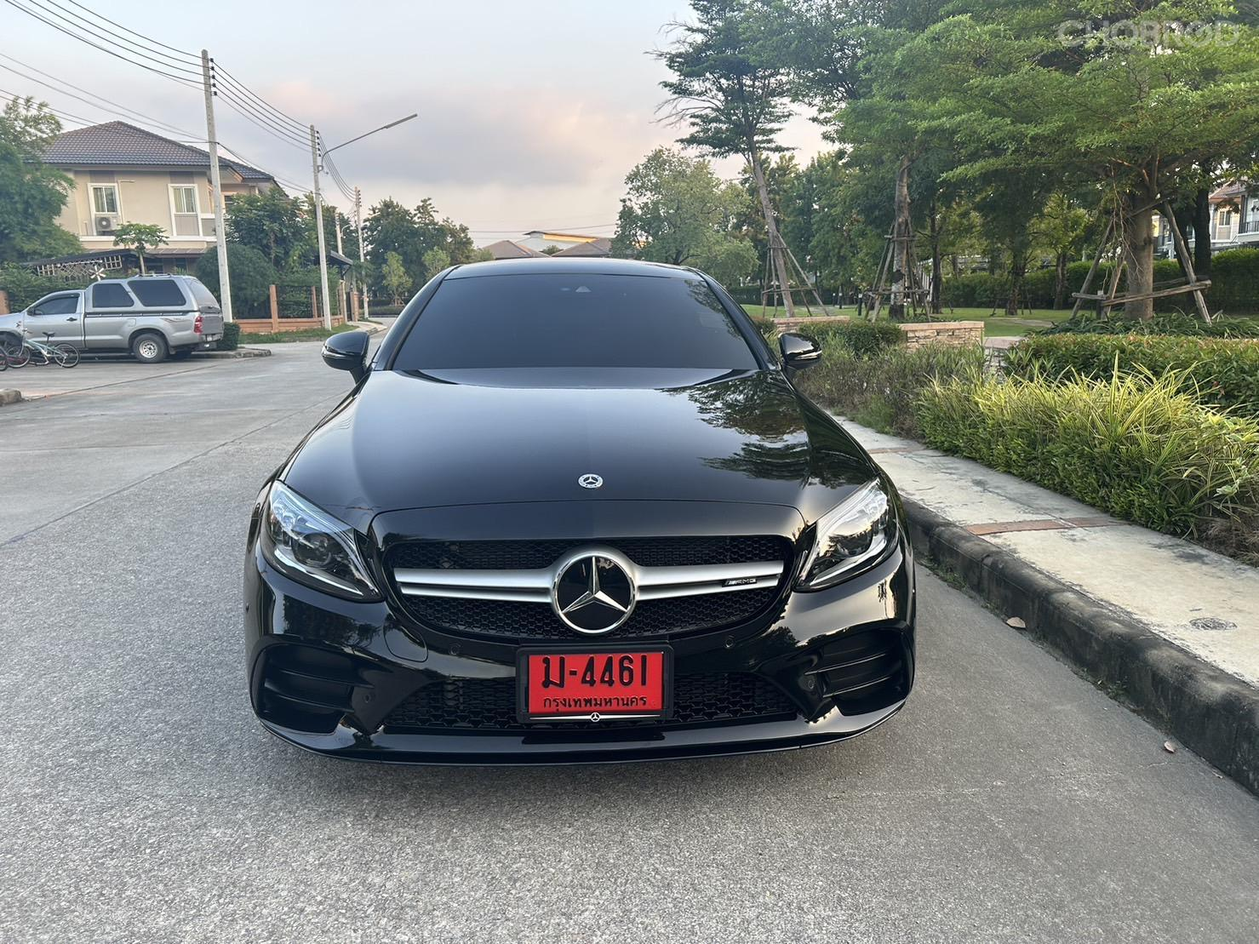license-plate: (516, 641, 680, 728)
